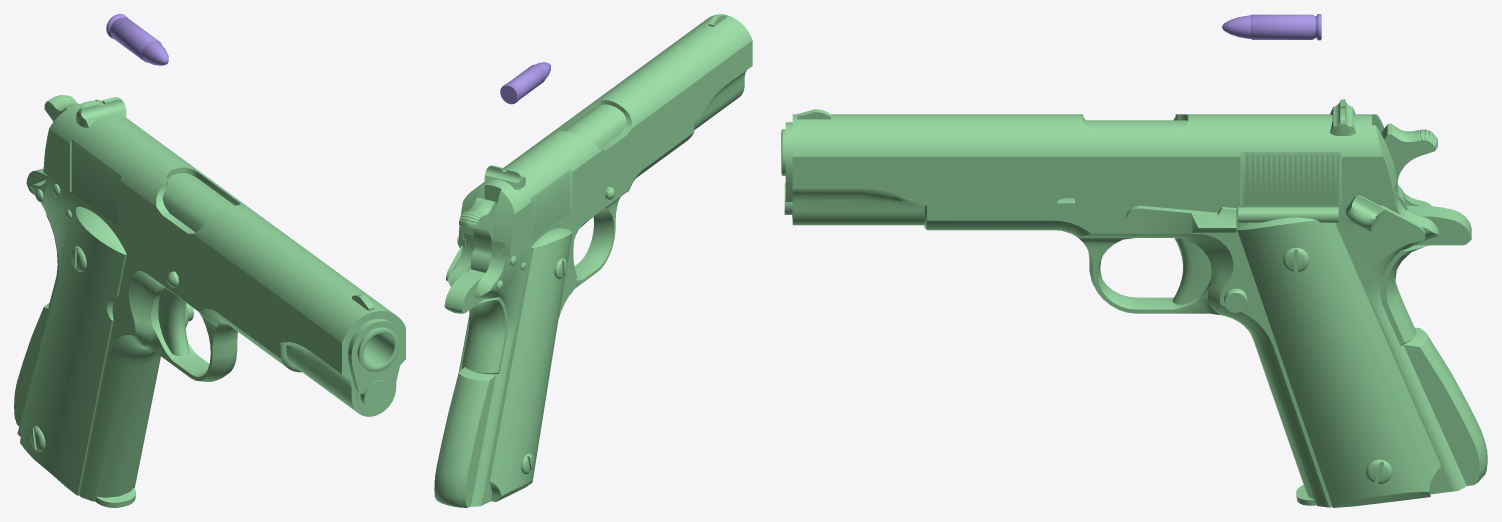
The model's file is WPN_C1911.FBX.
3 views of the same model, side by side, from view 1: azimuth 30°, elevation 25°; view 2: azimuth 150°, elevation 25°; view 3: azimuth 270°, elevation 25° (orthographic). The views are drawn at different scales.
Parts seen in each view (by area): view 1: WPN_C1911, WPN_C1911_slide, WPN_C1911_barrel, cal_45, WPN_C1911_trigger, WPN_C1911_hammer, WPN_C1911_magazine; view 2: WPN_C1911, WPN_C1911_slide, WPN_C1911_hammer, WPN_C1911_barrel, cal_45; view 3: WPN_C1911, WPN_C1911_slide, WPN_C1911_Safety, cal_45, WPN_C1911_hammer, WPN_C1911_trigger, WPN_C1911_barrel.
Boxes of the visible parts, box(x1,y1,x2,y2) form: WPN_C1911: box(14, 168, 301, 501); WPN_C1911_slide: box(43, 97, 405, 416); WPN_C1911_barrel: box(162, 173, 399, 371); cal_45: box(106, 14, 168, 65); WPN_C1911_trigger: box(158, 288, 189, 356); WPN_C1911_hammer: box(44, 95, 79, 121); WPN_C1911_magazine: box(95, 488, 135, 507); WPN_C1911: box(434, 122, 694, 507); WPN_C1911_slide: box(458, 14, 752, 256); WPN_C1911_hammer: box(459, 197, 497, 272); WPN_C1911_barrel: box(563, 104, 626, 148); cal_45: box(500, 62, 550, 104); WPN_C1911: box(924, 180, 1487, 507); WPN_C1911_slide: box(784, 99, 1397, 225); WPN_C1911_Safety: box(1346, 195, 1425, 263); cal_45: box(1222, 14, 1321, 40); WPN_C1911_hammer: box(1381, 123, 1437, 209); WPN_C1911_trigger: box(1172, 238, 1210, 304); WPN_C1911_barrel: box(781, 120, 1188, 175).
Size of the model in its own units: 3.46 by 16.39 by 21.58.
